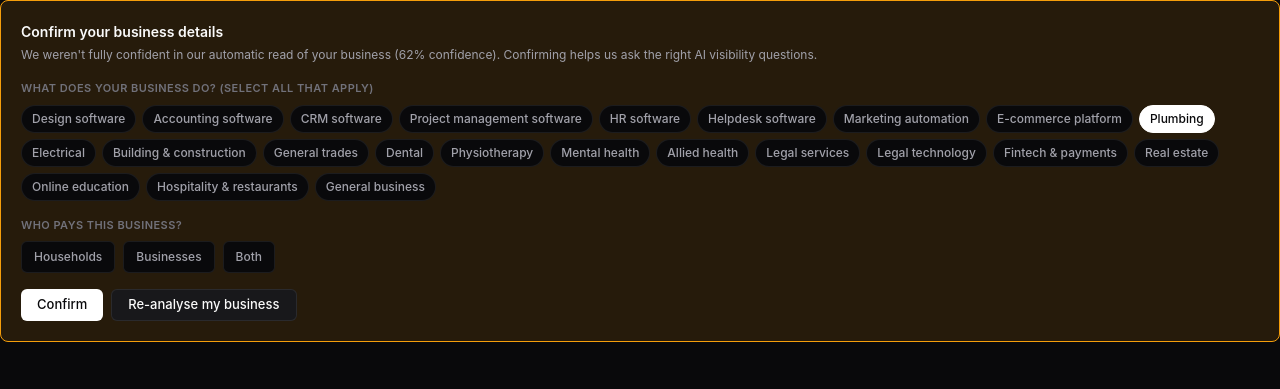
ClassificationConfirmCard — audience selection › blocks Confirm with an inline error when no audience has been chosen
The image size is (1280, 389).
Click the button "Confirm" at (62, 305), box [21,289,103,321]
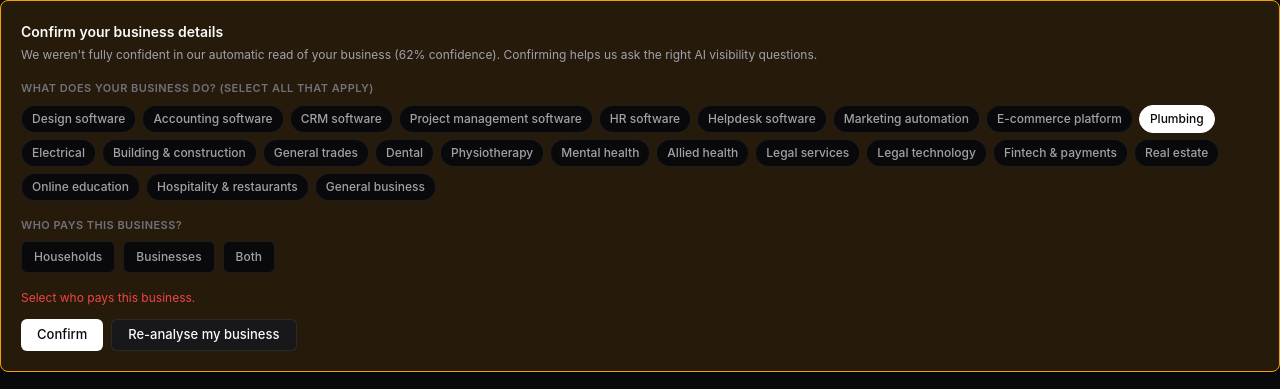
Expected: the text "Select who pays this business." is shown, [21,290,195,305]
